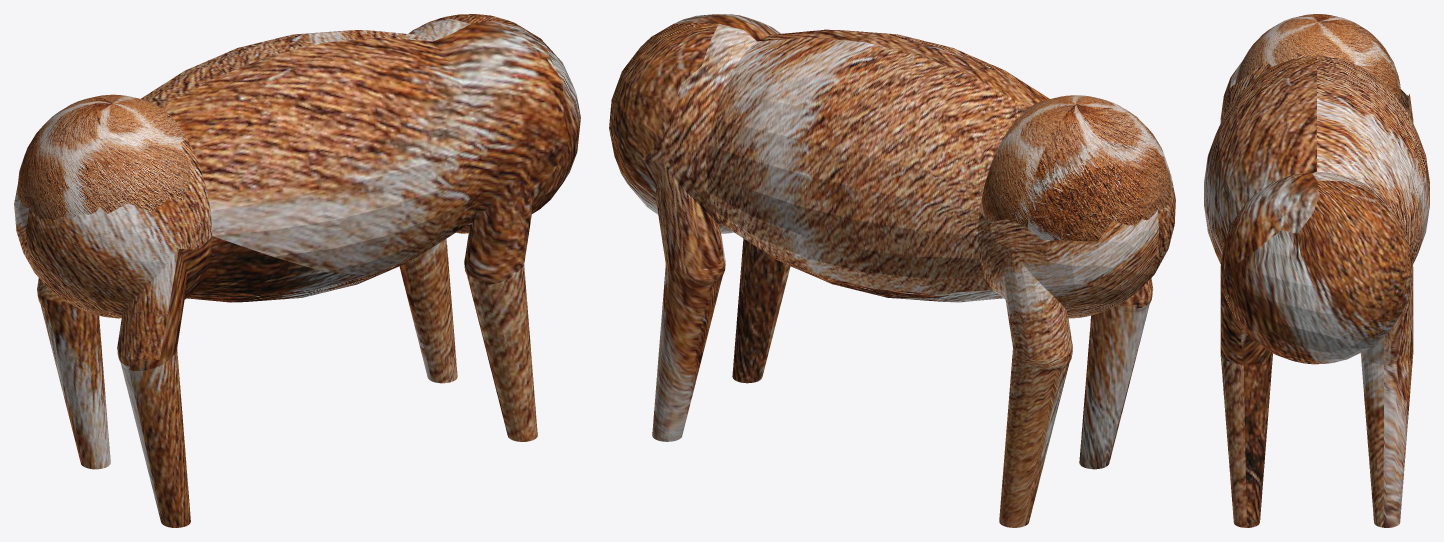
The model's file is cuerpoAnim.obj.
3 views of the same model, side by side, from view 1: azimuth 30°, elevation 25°; view 2: azimuth 150°, elevation 25°; view 3: azimuth 270°, elevation 25° (orthographic). The views are drawn at different scales.
Parts seen in each view (by area): view 1: node_id3, Sphere001; view 2: node_id3, Sphere001; view 3: node_id3, Sphere001.
Boxes of the visible parts, bbox=[...] form: node_id3: bbox=[14, 14, 580, 527]; Sphere001: bbox=[17, 94, 190, 219]; node_id3: bbox=[609, 14, 1175, 527]; Sphere001: bbox=[981, 95, 1170, 241]; node_id3: bbox=[1204, 54, 1429, 527]; Sphere001: bbox=[1235, 14, 1401, 102].
Size of the model in its own units: 0.3234 by 0.232 by 0.1345.
Materials: 2 (2 with a texture image).
